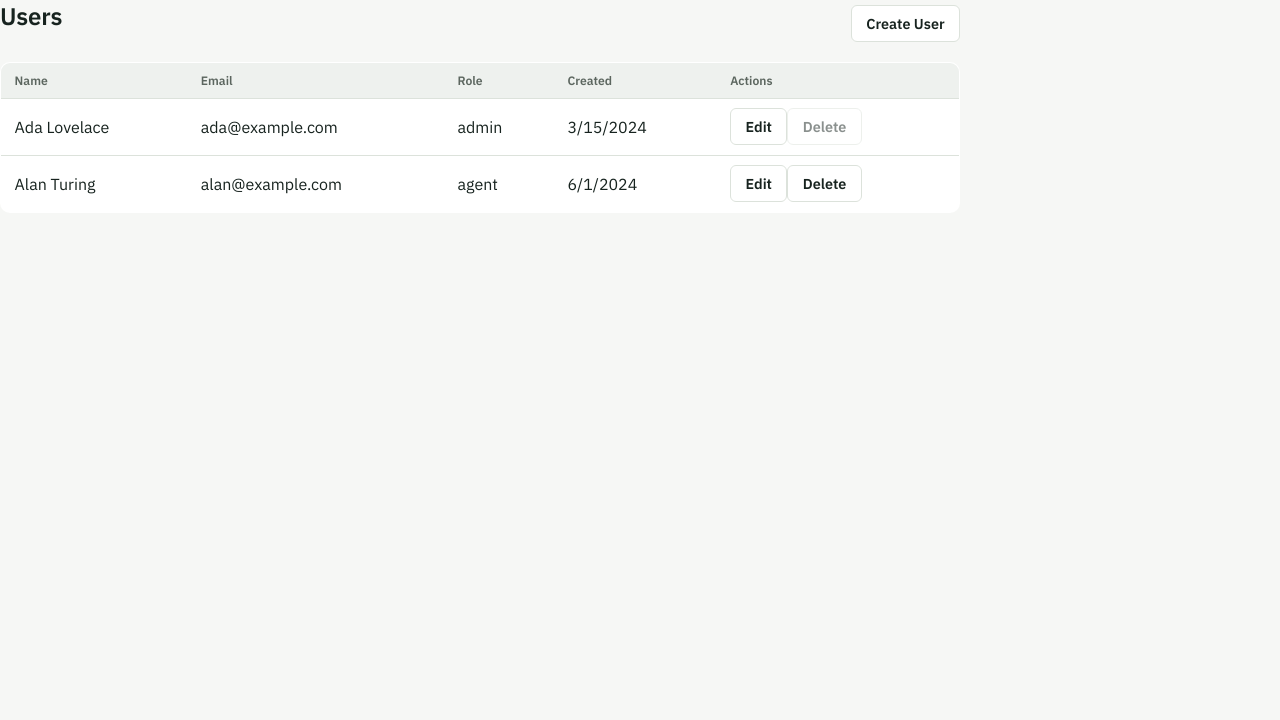
Test case: opens the edit modal pre-filled with the row's data and updates the list on save
Click the button with aria-label "Edit Ada Lovelace" at (759,127), box [730, 108, 787, 145]
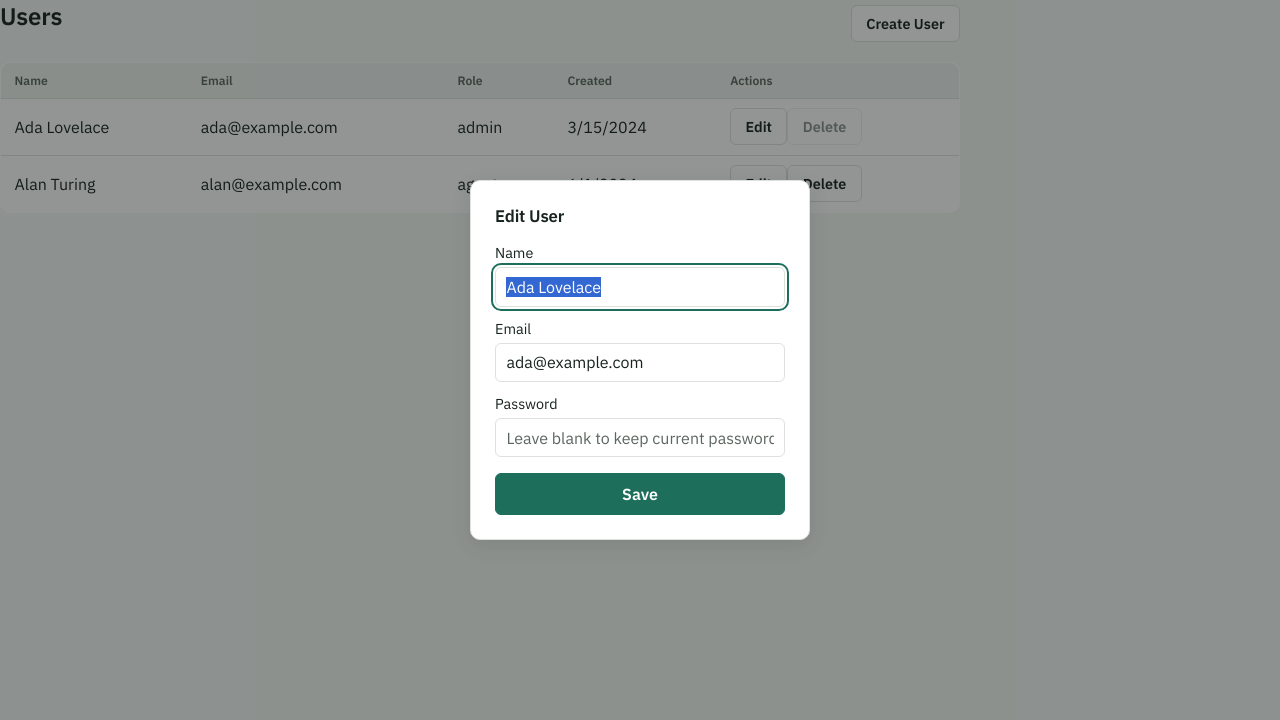
Expected: the heading "Edit User" is shown, [495, 205, 564, 227]
Expected: the field labelled "Name" holds "Ada Lovelace"
Expected: the field labelled "Email" holds "ada@example.com", [495, 342, 785, 382]
Replace the text in the field labelled "Name" with "Ada King" at (640,287), box [495, 267, 785, 307]
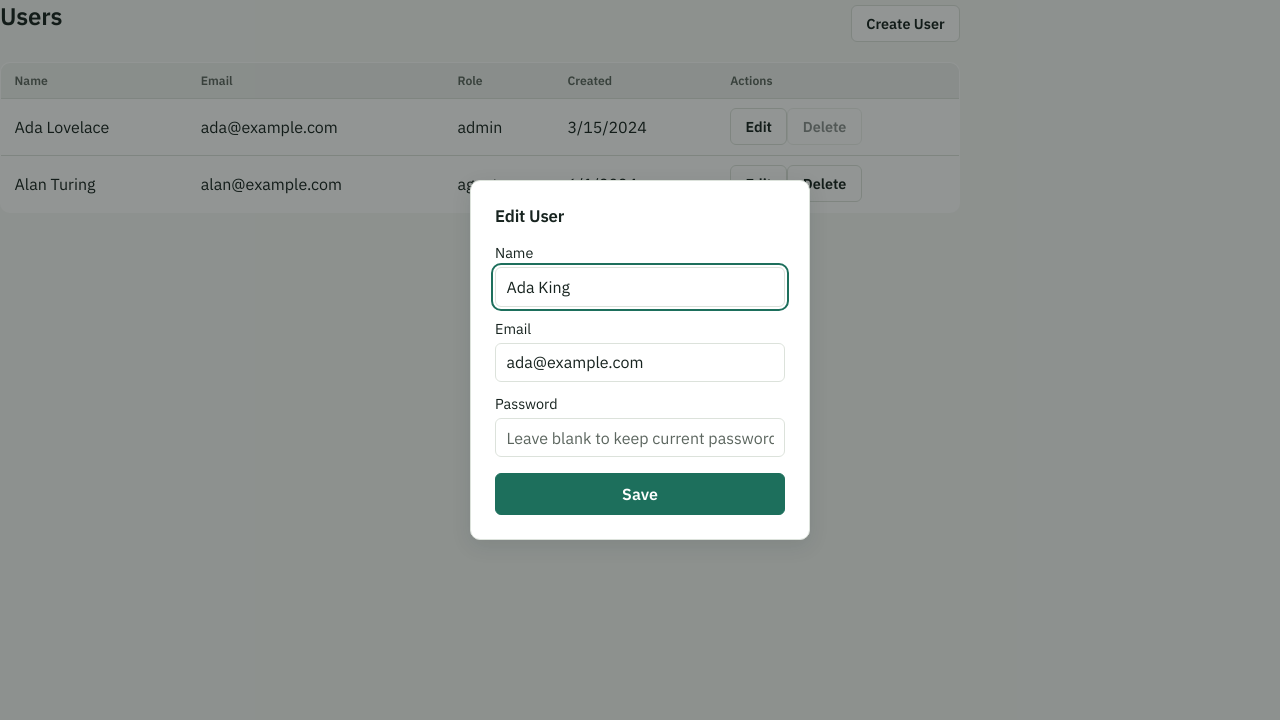
Click the button "Save" at (640,494), box [495, 474, 785, 515]
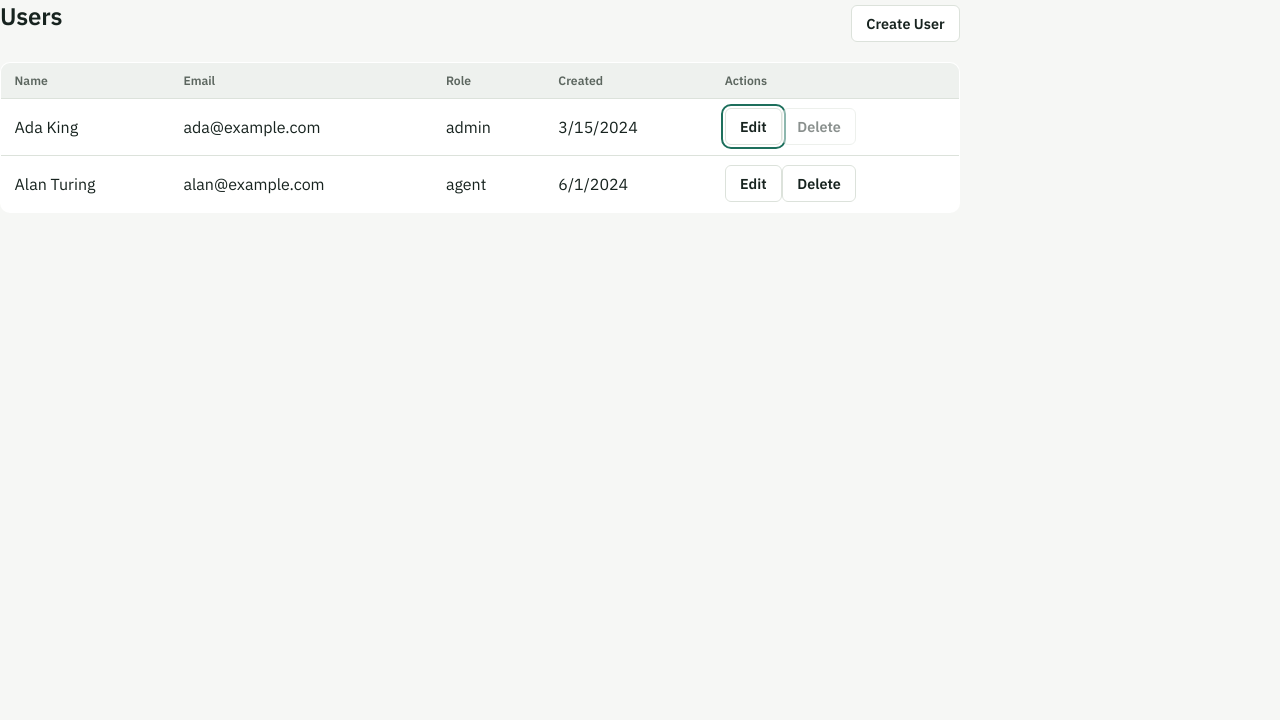
Expected: the text "Ada King" is shown, [0, 98, 170, 155]
Expected: the heading "Edit User" is gone
